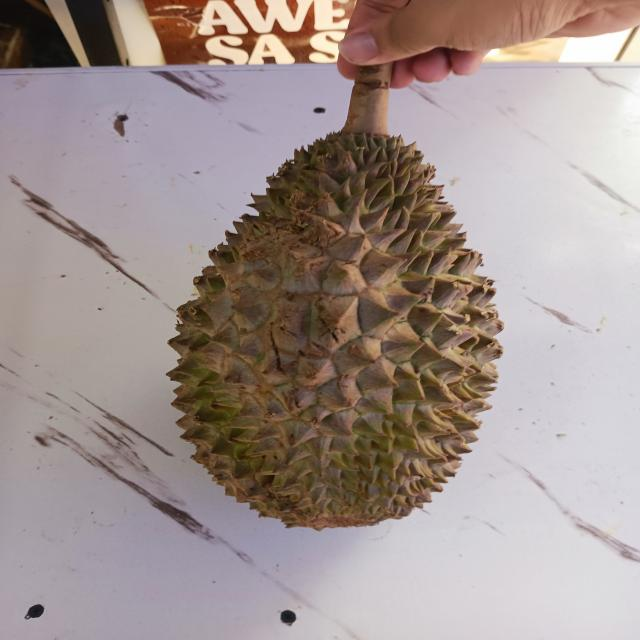mature: (167, 129, 502, 530)
